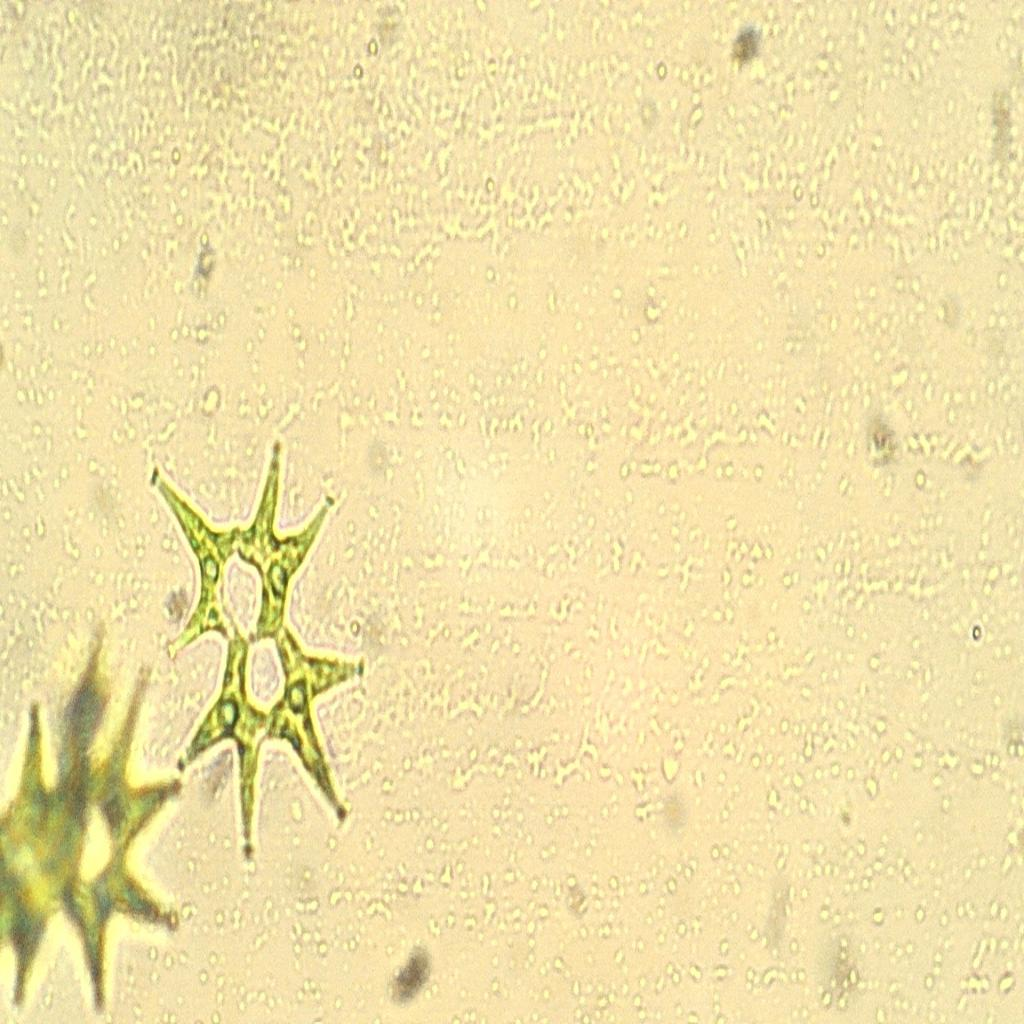Pediastrum_75FO: (134, 420, 398, 882)
